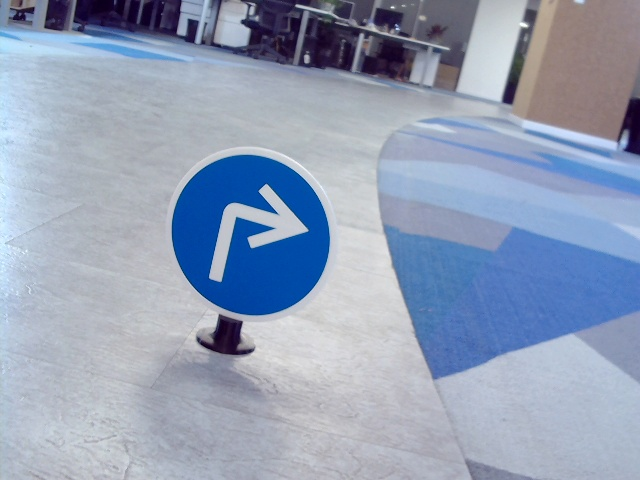turn_right: (205, 180, 309, 288)
